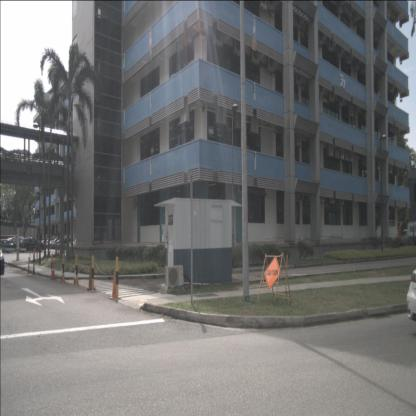movable_object-trafficcone: (110, 268, 121, 300), (87, 264, 96, 291), (73, 263, 80, 287), (59, 261, 66, 282), (49, 260, 56, 280), (27, 257, 30, 276)
vehicle-car: (18, 237, 44, 252), (0, 239, 18, 253), (13, 237, 28, 250), (55, 238, 70, 250), (64, 239, 78, 251), (0, 244, 5, 276), (51, 239, 63, 249), (45, 238, 55, 248), (46, 240, 57, 249)
vehicle-truck: (400, 221, 416, 247)
